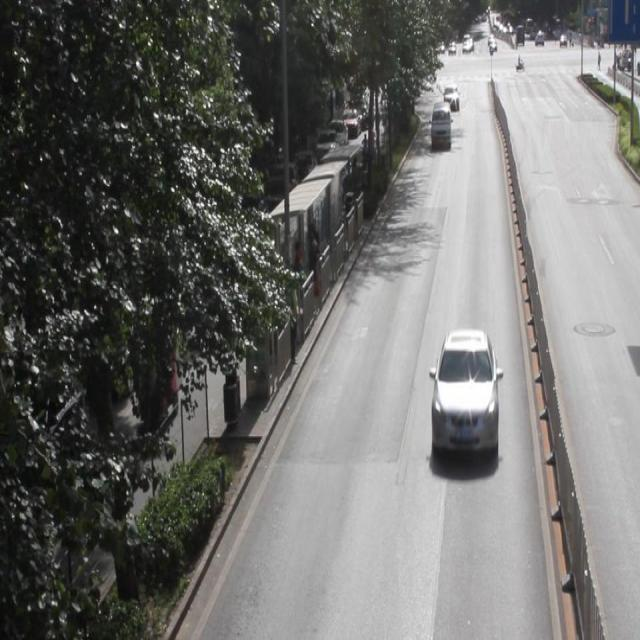car: (425, 332, 503, 468), (429, 101, 453, 149), (447, 72, 462, 111)
